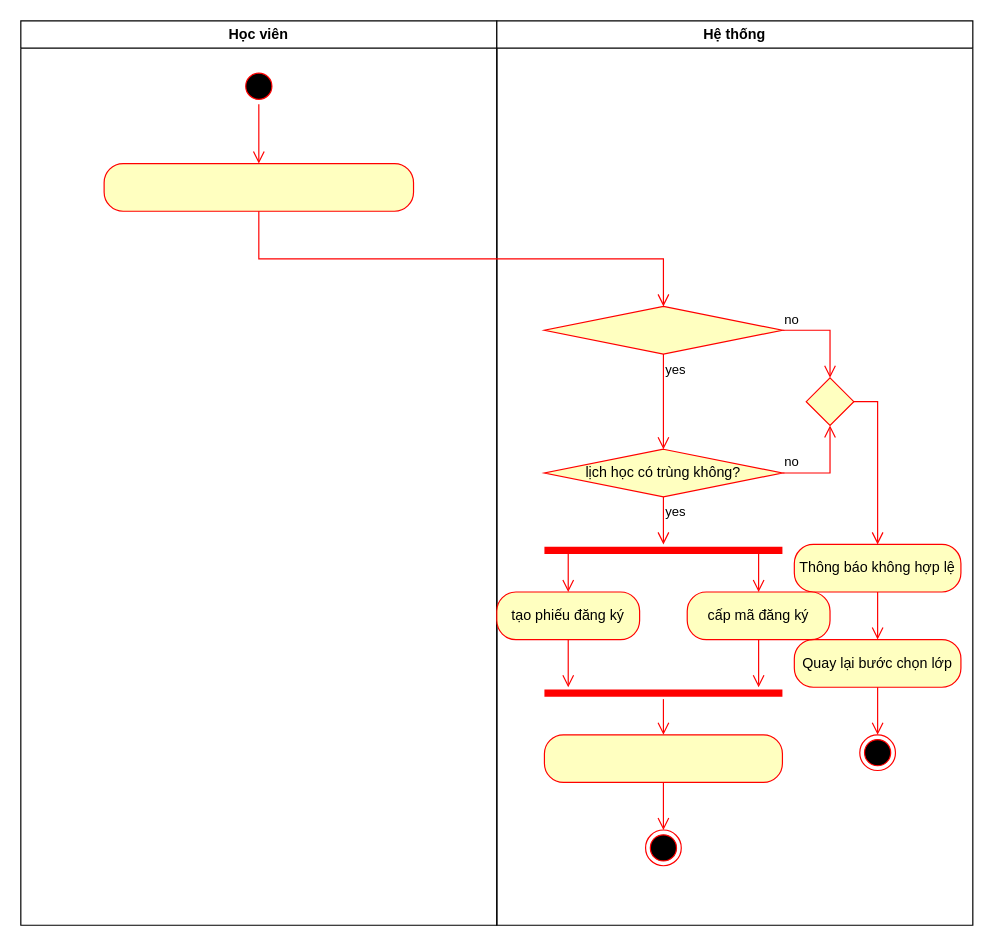
This 994x946 diagram has some shape labels left out. The centre of each missing label's shape, as x and y in pixels:
hiển thị thông tin phiếu đăng ký: point 662,758
lớp còn trống không?: point 662,329
Người dùng bâm nút "Xác nhận đăng ký": point 258,186
